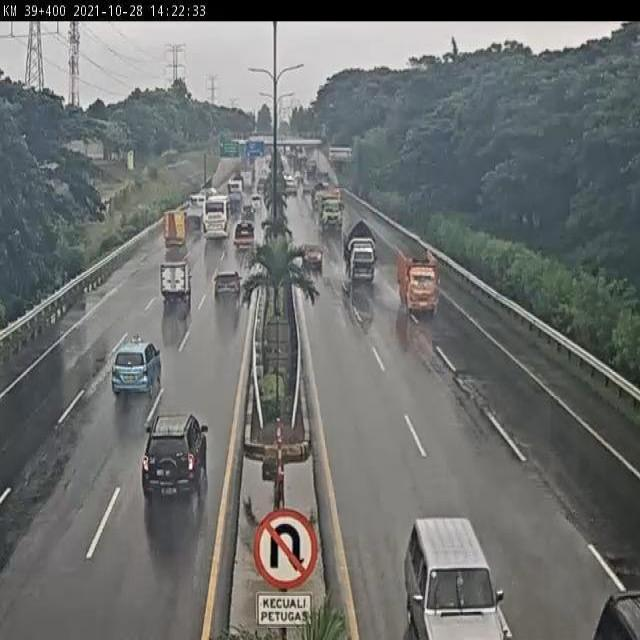bus-l-: (202, 194, 231, 242)
car: (402, 518, 505, 640), (159, 262, 190, 302)
truck-l-: (316, 188, 343, 229)
truck-s-: (338, 218, 375, 290), (398, 248, 437, 316), (161, 207, 189, 252), (234, 221, 255, 252)
